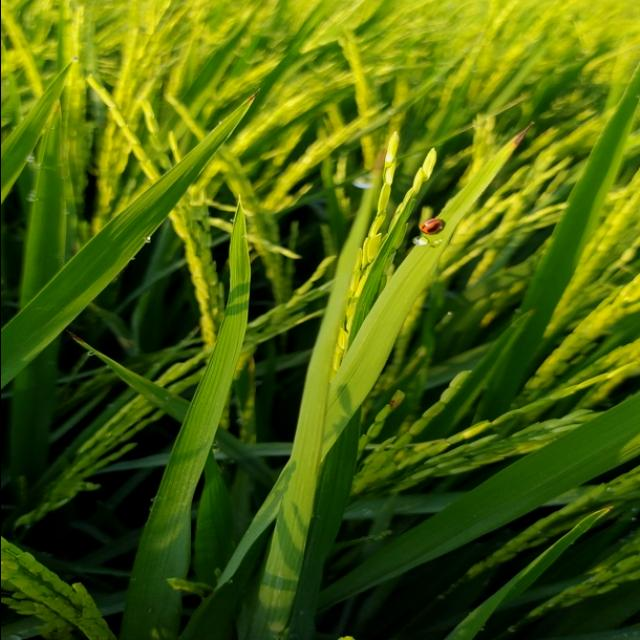Brown spot: (500, 112, 542, 170)
